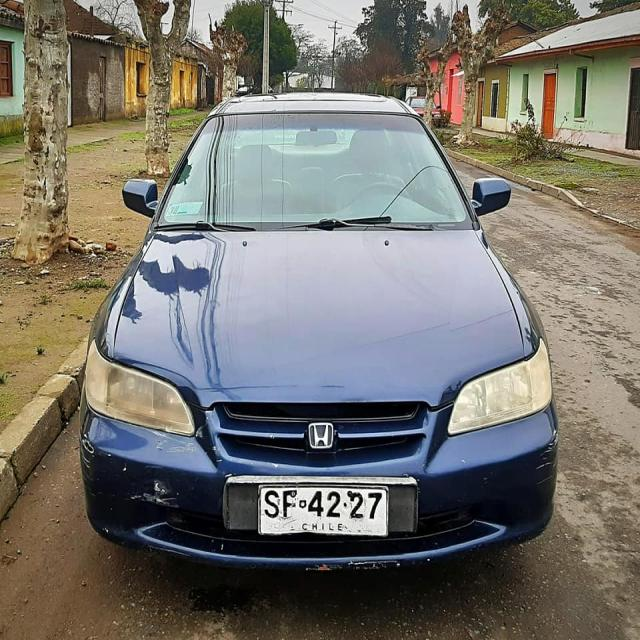patente: (256, 484, 389, 537)
